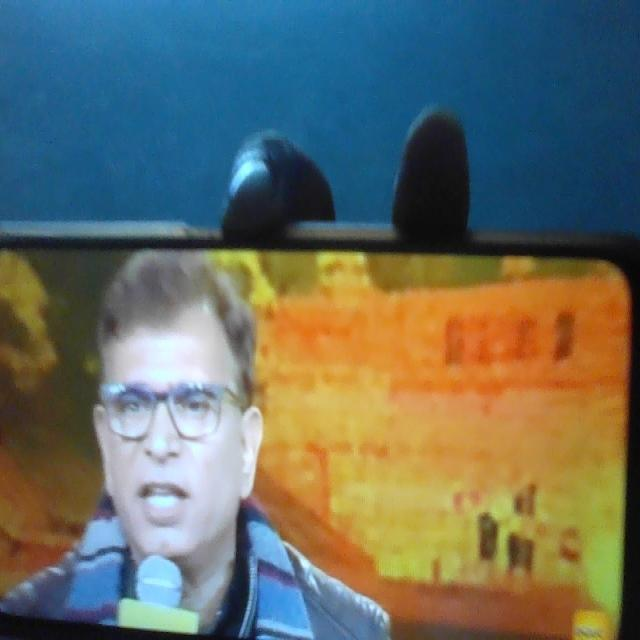fake: (78, 231, 266, 585)
